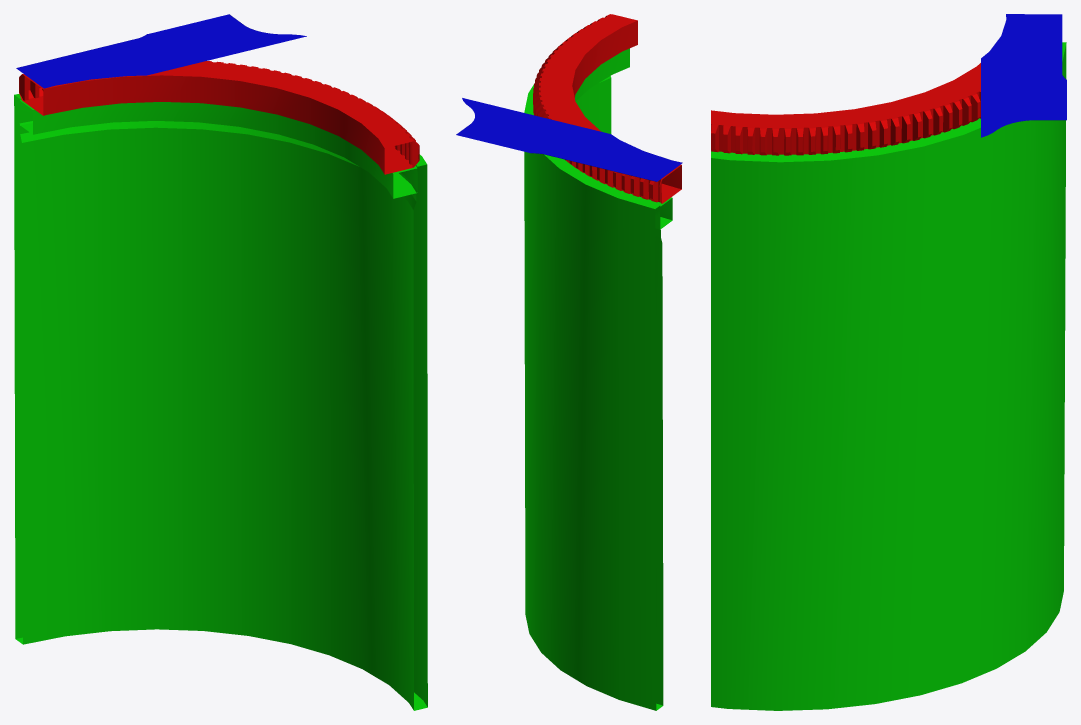
Rendered from Top Base 3.fbx.
The picture shows the model from 3 angles, left to right: view 1: azimuth 30°, elevation 25°; view 2: azimuth 150°, elevation 25°; view 3: azimuth 270°, elevation 25°; orthographic projection. The views are drawn at different scales.
Visible parts, largest first — view 1: LOD0_SM_TurbineTop_Base_03; view 2: LOD0_SM_TurbineTop_Base_03; view 3: LOD0_SM_TurbineTop_Base_03.
Boxes of the visible parts, x1,y1,x2,y2 form: LOD0_SM_TurbineTop_Base_03: (14, 14, 427, 710); LOD0_SM_TurbineTop_Base_03: (456, 14, 682, 710); LOD0_SM_TurbineTop_Base_03: (711, 14, 1066, 710).
Size of the model in its own units: 165 by 358 by 200.
